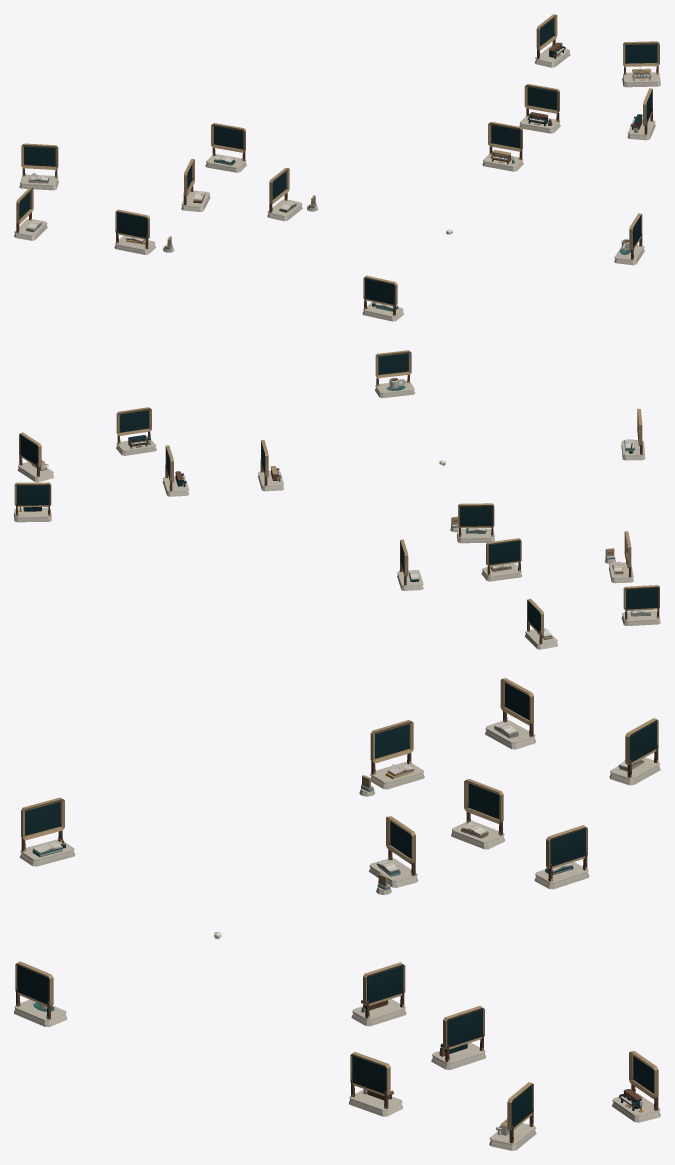
Rendered from courtyard.glb.
3 renders of one model, top to bottom at view 1: azimuth 30°, elevation 25°; view 2: azimuth 150°, elevation 25°; view 3: azimuth 270°, elevation 25°, orthographic. The views are drawn at different scales.
Visible parts, largest first — view 1: Exhibit_piano--graceful-ghost_Sculpturemattepaint, Exhibit_piano--pathetique_Sculpturemattepaint, Exhibit_piano--en-avril_Sculpturemattepaint, Exhibit_writing--2025-3_Sculpturemattepaint, Exhibit_writing--exchange-student-3_Sculpturemattepaint, Exhibit_guestbook--visitors_Sculpturemattepaint, Exhibit_writing--2025-1_Sculpturemattepaint, Exhibit_piano--traumerei_Sculpturemattepaint, Exhibit_writing--exchange-student-1_Sculpturemattepaint, Exhibit_writing--2025-2_Sculpturemattepaint, Exhibit_coffee--support_Sculpturemattepaint, Exhibit_writing--exchange-student-2_Sculpturemattepaint (+1 smaller); view 2: Exhibit_coffee--support_Sculpturemattepaint, Exhibit_piano--last-rag_Sculpturemattepaint, Exhibit_piano--traumerei_Sculpturemattepaint, Exhibit_writing--2025-2_Sculpturemattepaint, Exhibit_writing--exchange-student-1_Sculpturemattepaint, Exhibit_writing--exchange-student-2_Sculpturemattepaint, Exhibit_piano--graceful-ghost_Sculpturemattepaint, Exhibit_writing--2025-3_Sculpturemattepaint, Exhibit_piano--pathetique_Sculpturemattepaint, Exhibit_piano--en-avril_Sculpturemattepaint, Exhibit_writing--exchange-student-3_Sculpturemattepaint, Exhibit_writing--2025-1_Sculpturemattepaint (+1 smaller); view 3: Exhibit_guestbook--visitors_Sculpturemattepaint, Exhibit_writing--2025-1_Sculpturemattepaint, Exhibit_piano--en-avril_Sculpturemattepaint, Exhibit_writing--exchange-student-2_Sculpturemattepaint, Exhibit_piano--pathetique_Sculpturemattepaint, Exhibit_writing--exchange-student-3_Sculpturemattepaint, Exhibit_piano--last-rag_Sculpturemattepaint, Exhibit_coffee--support_Sculpturemattepaint, Exhibit_writing--2025-2_Sculpturemattepaint, Exhibit_piano--traumerei_Sculpturemattepaint, Exhibit_writing--2025-3_Sculpturemattepaint, Exhibit_writing--exchange-student-1_Sculpturemattepaint (+1 smaller).
Part boxes in pixels (x1,y1,x2,y2): Exhibit_piano--graceful-ghost_Sculpturemattepaint: (622, 41, 660, 87); Exhibit_piano--pathetique_Sculpturemattepaint: (519, 84, 560, 133); Exhibit_piano--en-avril_Sculpturemattepaint: (482, 121, 523, 171); Exhibit_writing--2025-3_Sculpturemattepaint: (19, 143, 58, 190); Exhibit_writing--exchange-student-3_Sculpturemattepaint: (205, 123, 246, 172); Exhibit_guestbook--visitors_Sculpturemattepaint: (362, 275, 404, 321); Exhibit_writing--2025-1_Sculpturemattepaint: (114, 209, 155, 254); Exhibit_piano--traumerei_Sculpturemattepaint: (535, 14, 570, 67); Exhibit_writing--exchange-student-1_Sculpturemattepaint: (267, 168, 302, 221); Exhibit_writing--2025-2_Sculpturemattepaint: (14, 187, 47, 240); Exhibit_coffee--support_Sculpturemattepaint: (614, 213, 644, 265); Exhibit_writing--exchange-student-2_Sculpturemattepaint: (181, 159, 210, 211); Exhibit_coffee--support_Sculpturemattepaint: (375, 350, 415, 398); Exhibit_piano--last-rag_Sculpturemattepaint: (116, 407, 156, 455); Exhibit_piano--traumerei_Sculpturemattepaint: (14, 482, 51, 522); Exhibit_writing--2025-2_Sculpturemattepaint: (621, 585, 660, 625); Exhibit_writing--exchange-student-1_Sculpturemattepaint: (457, 503, 494, 543); Exhibit_writing--exchange-student-2_Sculpturemattepaint: (481, 538, 522, 581); Exhibit_piano--graceful-ghost_Sculpturemattepaint: (17, 432, 53, 482); Exhibit_writing--2025-3_Sculpturemattepaint: (525, 598, 557, 649); Exhibit_piano--pathetique_Sculpturemattepaint: (162, 445, 189, 496); Exhibit_piano--en-avril_Sculpturemattepaint: (258, 439, 284, 491); Exhibit_writing--exchange-student-3_Sculpturemattepaint: (397, 539, 423, 590); Exhibit_writing--2025-1_Sculpturemattepaint: (609, 531, 633, 583); Exhibit_guestbook--visitors_Sculpturemattepaint: (19, 797, 75, 866); Exhibit_writing--2025-1_Sculpturemattepaint: (370, 720, 424, 789); Exhibit_piano--en-avril_Sculpturemattepaint: (351, 962, 406, 1026); Exhibit_writing--exchange-student-2_Sculpturemattepaint: (451, 779, 504, 849); Exhibit_piano--pathetique_Sculpturemattepaint: (431, 1005, 485, 1069); Exhibit_writing--exchange-student-3_Sculpturemattepaint: (534, 825, 589, 889); Exhibit_piano--last-rag_Sculpturemattepaint: (349, 1052, 402, 1116); Exhibit_coffee--support_Sculpturemattepaint: (14, 961, 66, 1026); Exhibit_writing--2025-2_Sculpturemattepaint: (485, 678, 535, 749); Exhibit_piano--traumerei_Sculpturemattepaint: (612, 1051, 660, 1122); Exhibit_writing--2025-3_Sculpturemattepaint: (609, 718, 660, 785); Exhibit_writing--exchange-student-1_Sculpturemattepaint: (369, 816, 418, 887).
Size of the model in its own units: 60.42 by 3.31 by 38.9.
